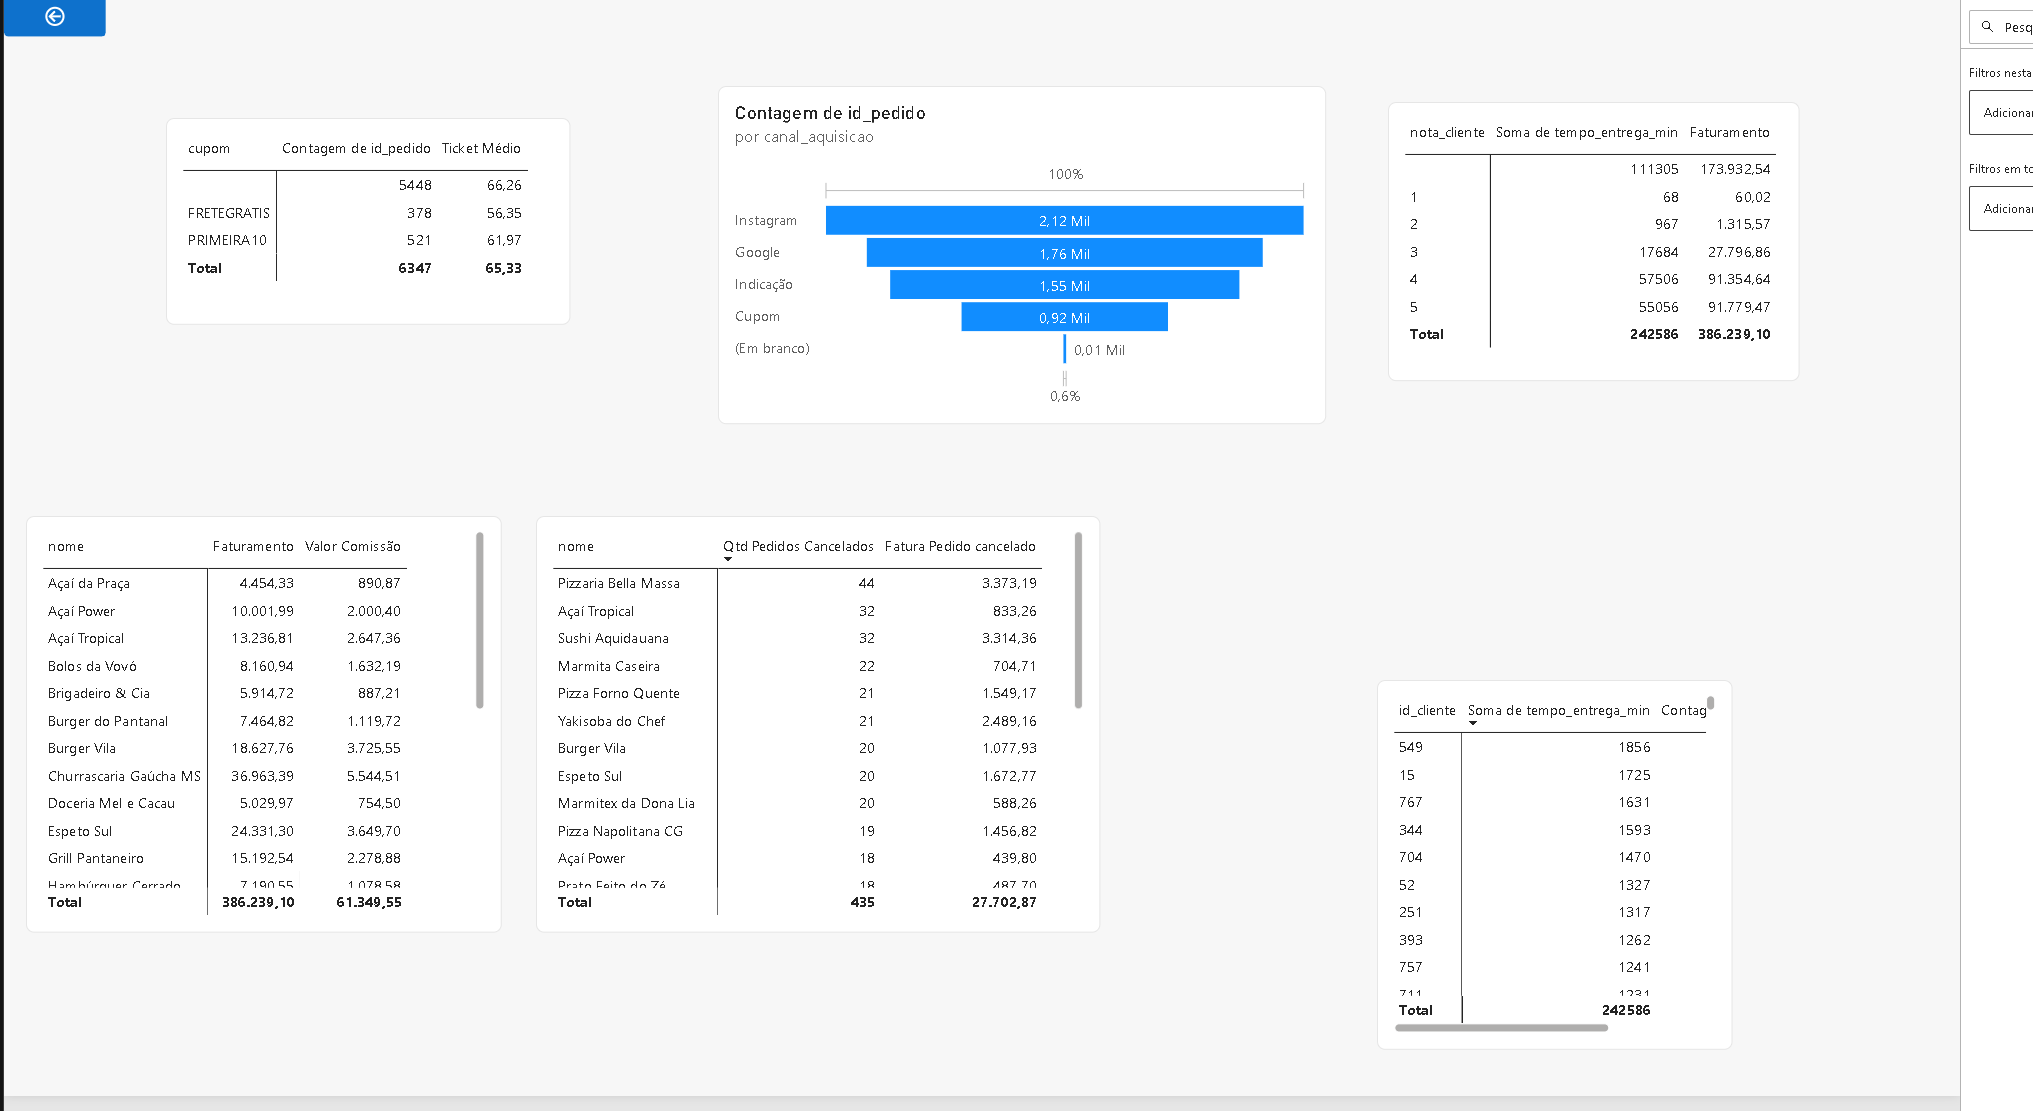

What the dashboard file says about the page in this screenshot:
{"tool":"powerbi","page":{"name":"KPIT-PT2","canvas":[1920,1080],"ordinal":2},"visuals":[{"type":"pivotTable","fields":{"Rows":["pedidos.id_cliente"],"Values":["Sum(pedidos.tempo_entrega_min)","CountNonNull(pedidos.id_pedido)"]},"box":[1347.7,671.4,349.4,363.2],"z":0},{"type":"pivotTable","fields":{"Rows":["pedidos.cupom"],"Values":["Count(pedidos.id_pedido)","pedidos.Ticket Médio"]},"box":[159,119.8,396.6,203.2],"z":1000},{"type":"pivotTable","fields":{"Rows":["pedidos.nota_cliente"],"Values":["Sum(pedidos.tempo_entrega_min)","clientes.Faturamento"]},"box":[1358.5,104,404.4,273.9],"z":2000},{"type":"pivotTable","fields":{"Rows":["restaurantes.nome"],"Values":["clientes.Faturamento","pedidos.Valor Comissão"]},"box":[21.6,510.4,467.2,409.3],"z":3000},{"type":"pivotTable","fields":{"Rows":["restaurantes.nome"],"Values":["pedidos.Qtd Pedidos Cancelados","pedidos.Fatura Pedido cancelado"]},"box":[522.2,510.4,553.6,409.3],"z":3001},{"type":"funnel","fields":{"Category":["clientes.canal_aquisicao"],"Y":["Count(pedidos.id_pedido)"]},"box":[700.9,88.3,596.8,331.8],"z":3002},{"type":"actionButton","box":[0,0,100,40],"z":3003}]}

Visuals, with their boxes on the page's 1920x1080 design canvas (x1, y1, x2, y2). These are canvas units, not pixel positions in the 2033x1111 screenshot, which may show the page scaled, cropped or inside an application window:
pivotTable - pedidos.id_cliente x Sum(pedidos.tempo_entrega_min): x1=1348 y1=671 x2=1697 y2=1035
pivotTable - pedidos.cupom x Count(pedidos.id_pedido): x1=159 y1=120 x2=556 y2=323
pivotTable - pedidos.nota_cliente x Sum(pedidos.tempo_entrega_min): x1=1358 y1=104 x2=1763 y2=378
pivotTable - restaurantes.nome x clientes.Faturamento: x1=22 y1=510 x2=489 y2=920
pivotTable - restaurantes.nome x pedidos.Qtd Pedidos Cancelados: x1=522 y1=510 x2=1076 y2=920
funnel - clientes.canal_aquisicao x Count(pedidos.id_pedido): x1=701 y1=88 x2=1298 y2=420
actionButton: x1=0 y1=0 x2=100 y2=40
